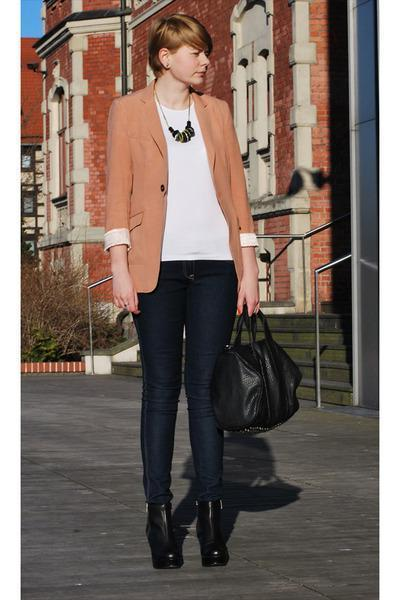jacket: (102, 89, 257, 296)
short sleeve shirt: (137, 98, 231, 271)
trousers: (123, 256, 248, 501)
